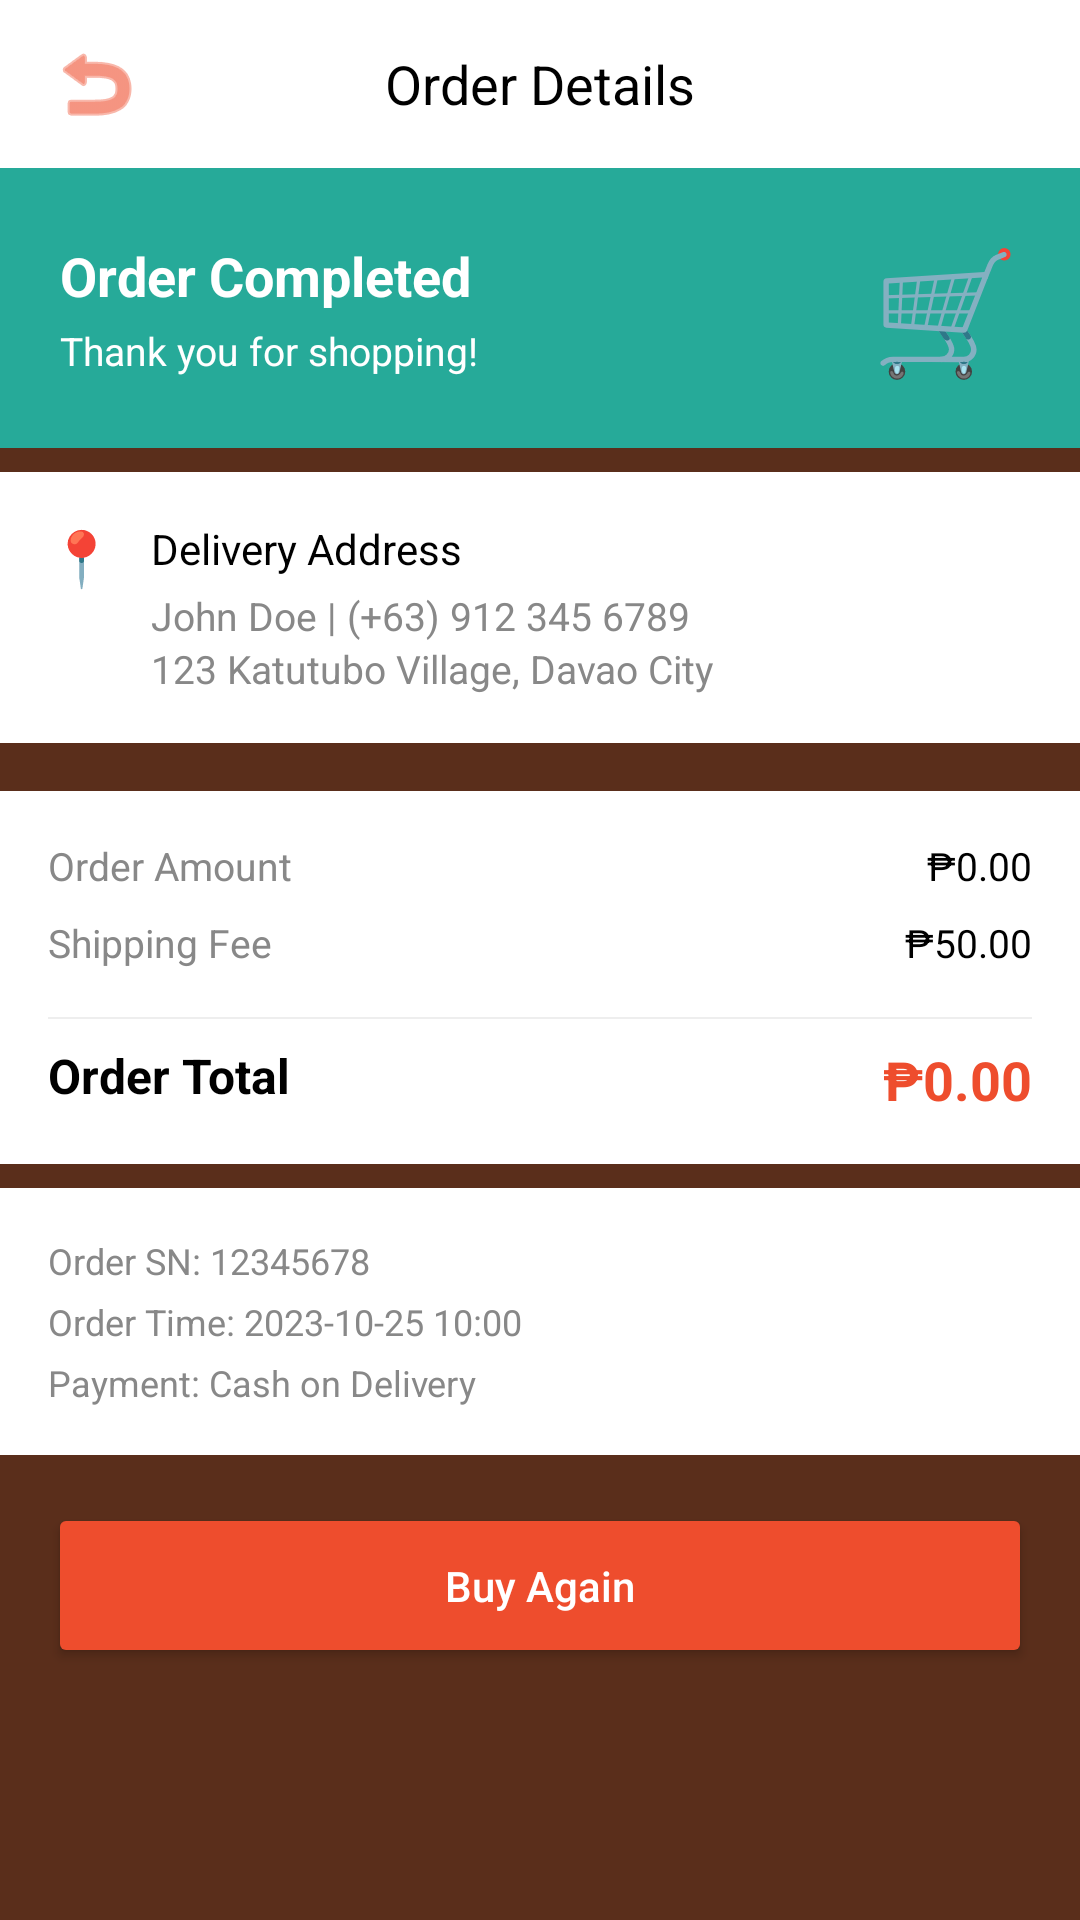

Named icons in this screenshot (1080px×1920px) and their centers, (x=x, y=y):
Back: (x=97, y=84)
